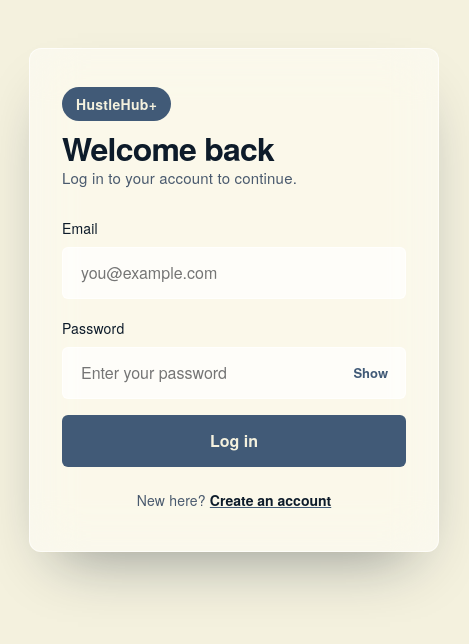
Test: LoginForm › pauses the button after the API rate-limits the user (429)
Type "test@example.com" into the field labelled "Email" at point(234, 273), box [62,247,406,299]
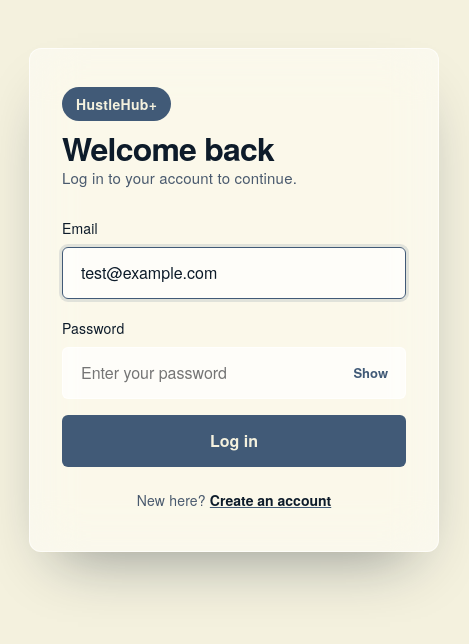
Type "Passw0rd!" into the password field labelled "Password" at point(234, 373), box [62,347,406,399]
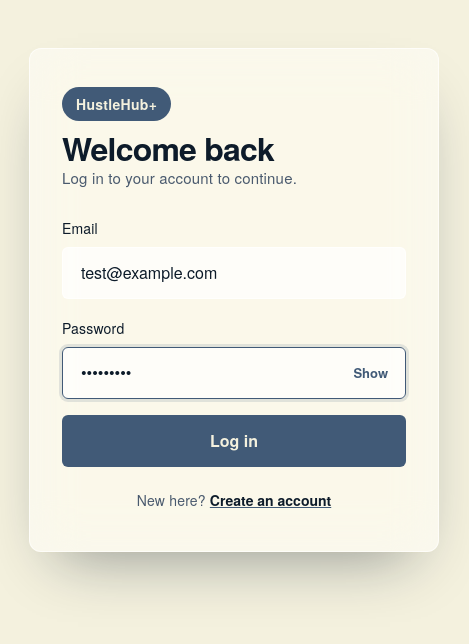
Click the button "Log in" at point(234, 441), box [62,415,406,467]
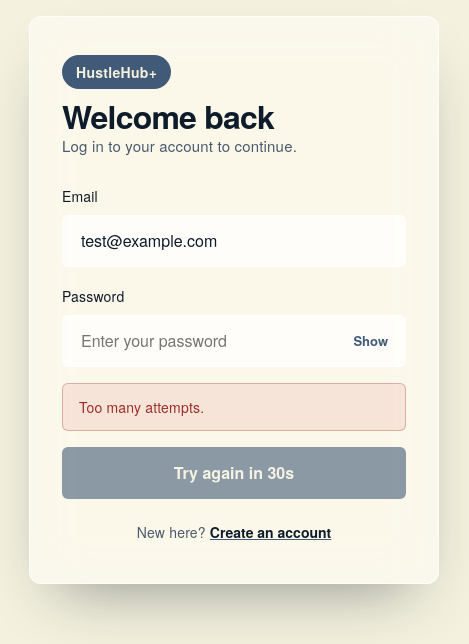
Expected: the button "Try again in 30s" is disabled, [62,447,406,499]
